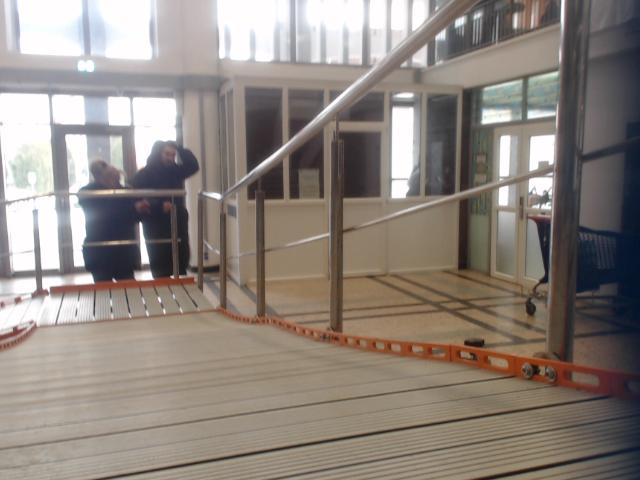rampDown: (0, 312, 639, 479), (0, 277, 214, 331)
ramps-railing: (220, 0, 473, 331), (547, 0, 639, 361), (31, 202, 178, 295), (347, 170, 541, 232), (197, 192, 221, 289), (267, 233, 328, 251), (256, 197, 264, 315), (46, 191, 188, 197), (211, 232, 225, 274), (240, 252, 255, 256)
